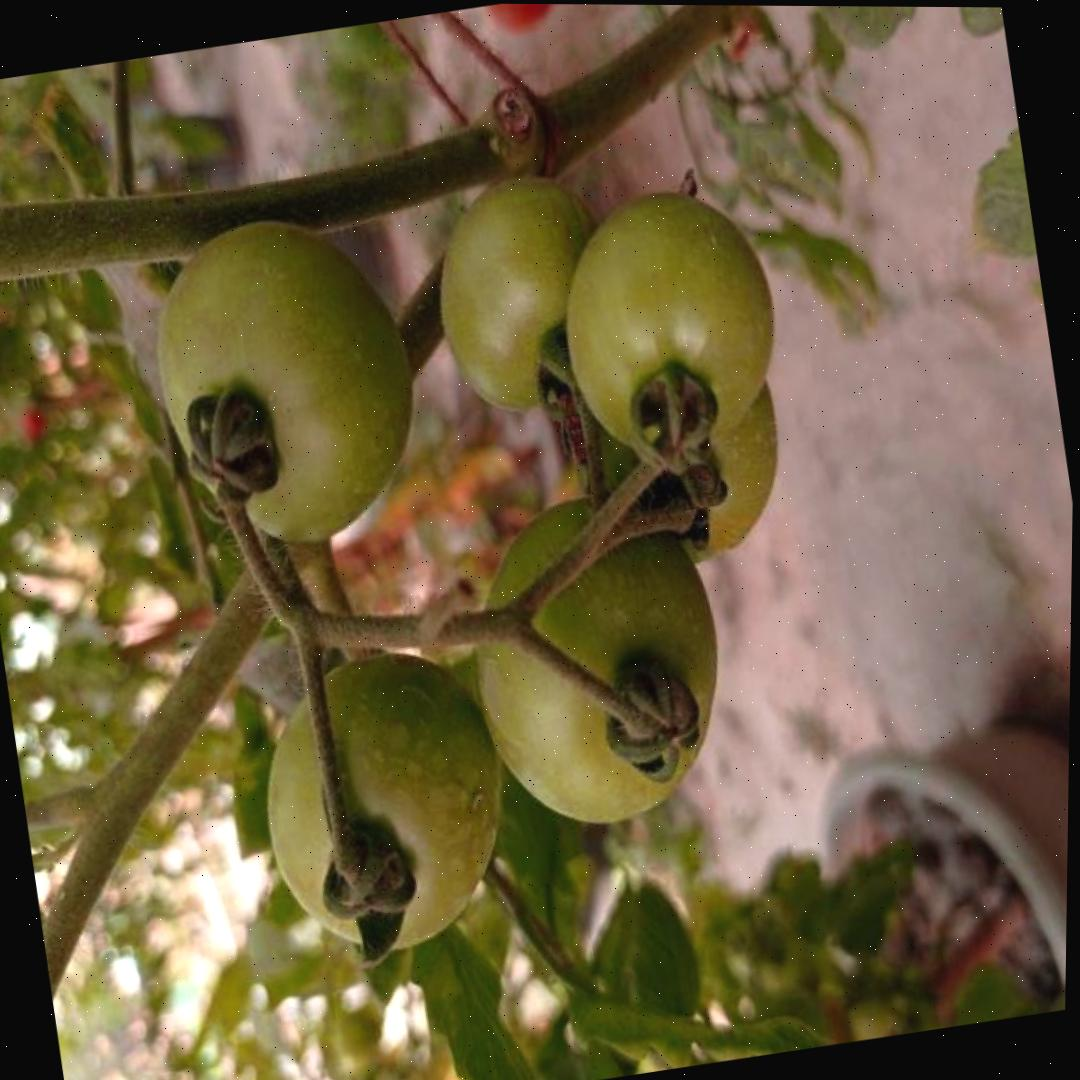mentah: (448, 471, 747, 840), (133, 199, 432, 565), (238, 635, 531, 974), (538, 174, 790, 466), (420, 161, 634, 426)
